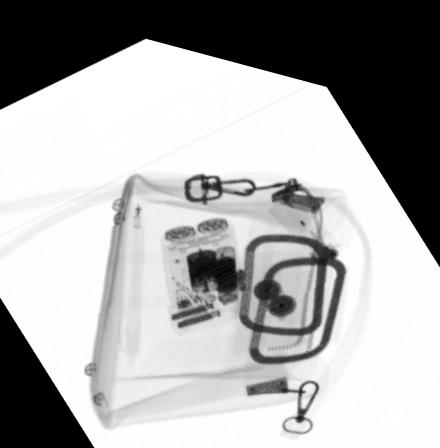Lighter: (270, 177, 340, 251)
